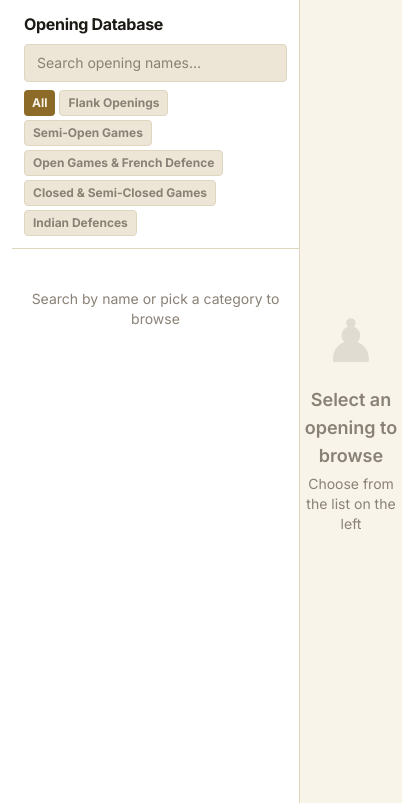
OpeningDatabasePage › category filter narrows the list, excluding entries from other categories
This screenshot has width=402, height=803.
Click the button "Indian Defences": (80, 223) [24,210,137,236]
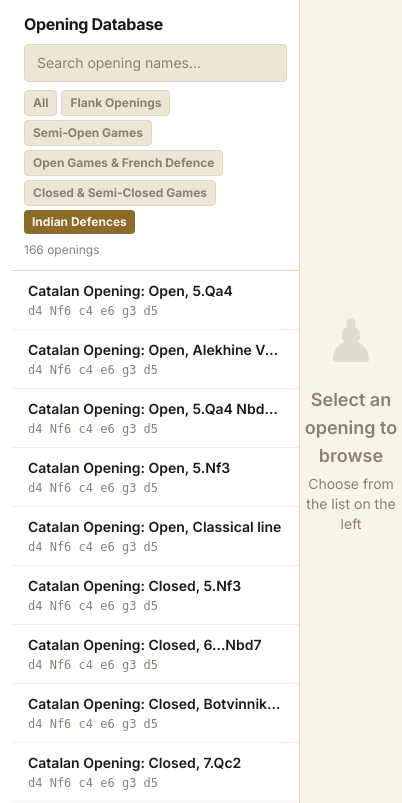
Now the text "166 openings" is shown, box [24,242,100,257]
